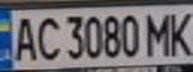0: (81, 11, 106, 60), (121, 11, 142, 58)
3: (63, 11, 84, 61)
8: (103, 11, 124, 60)
A: (9, 12, 39, 62)
C: (33, 12, 63, 62)
K: (166, 7, 193, 57)
M: (142, 9, 175, 57)
